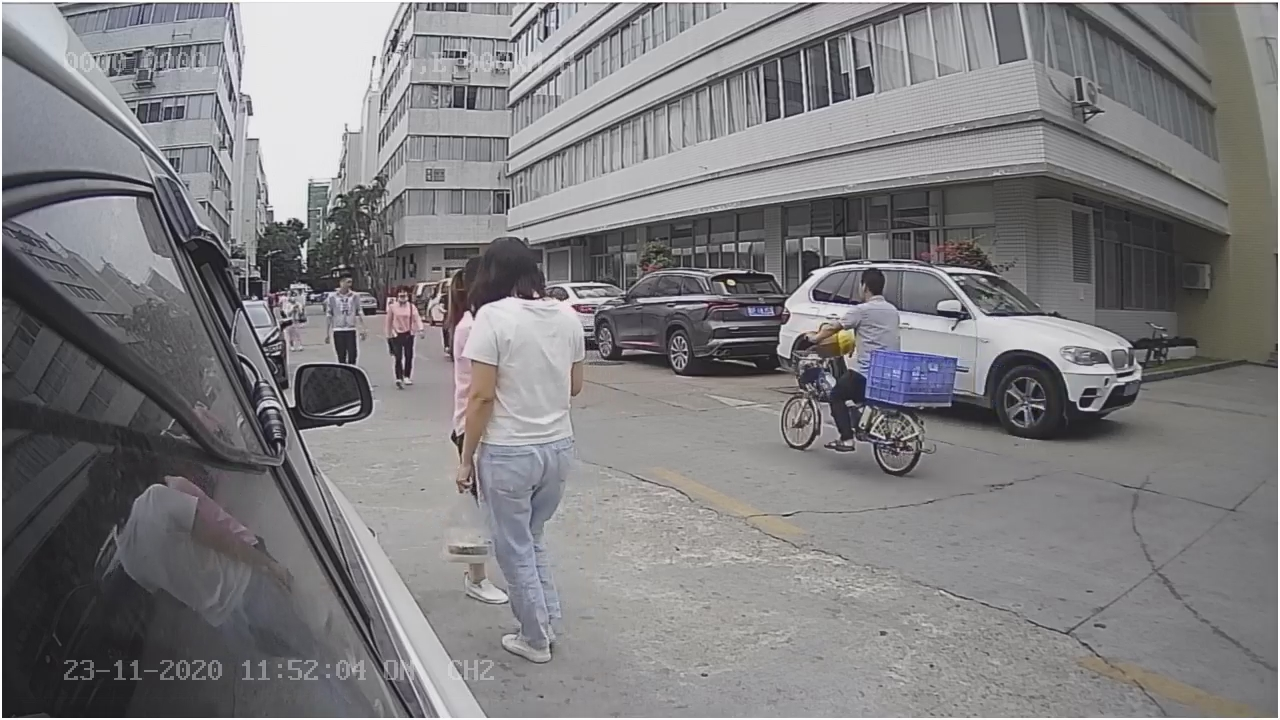person: (453, 233, 602, 658), (806, 254, 905, 350)
